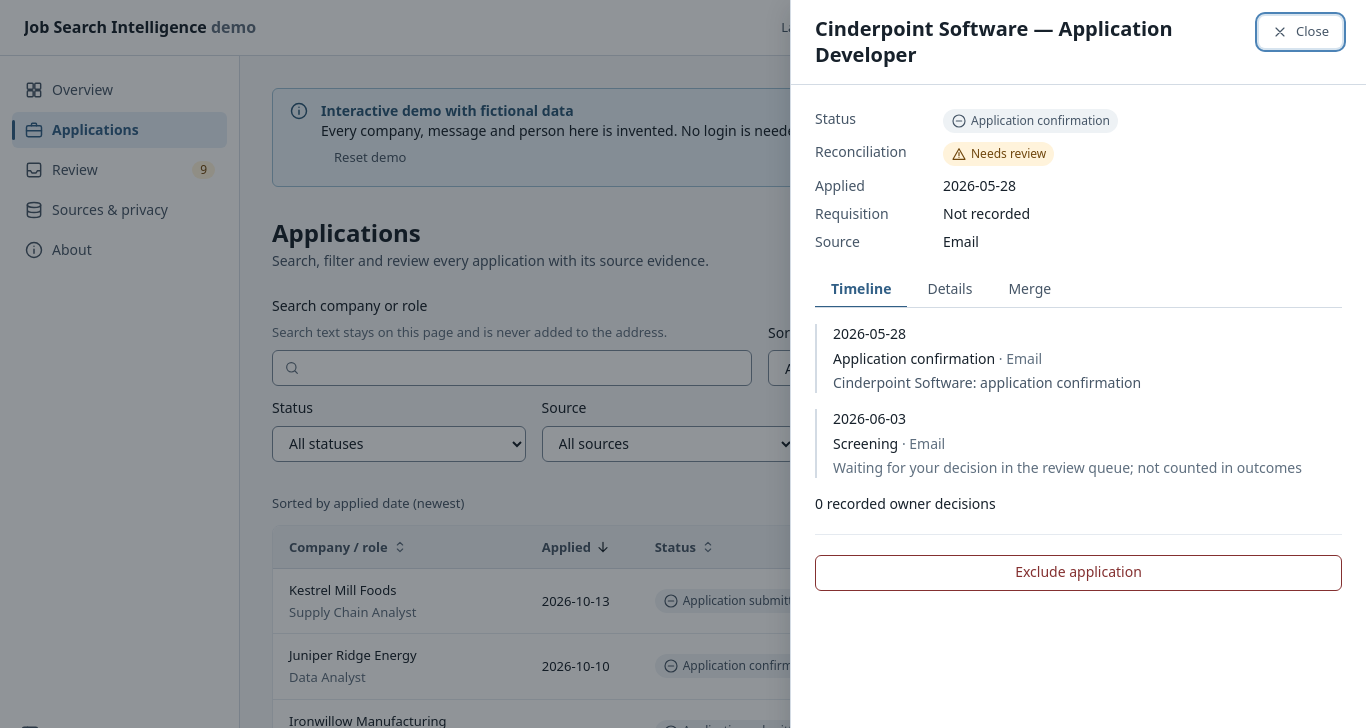
Test: applications › shows a stale merge target as an explicit error and changes nothing
Click the tab "Merge".
click(1030, 290)  # box left=992, top=272, right=1067, bottom=308
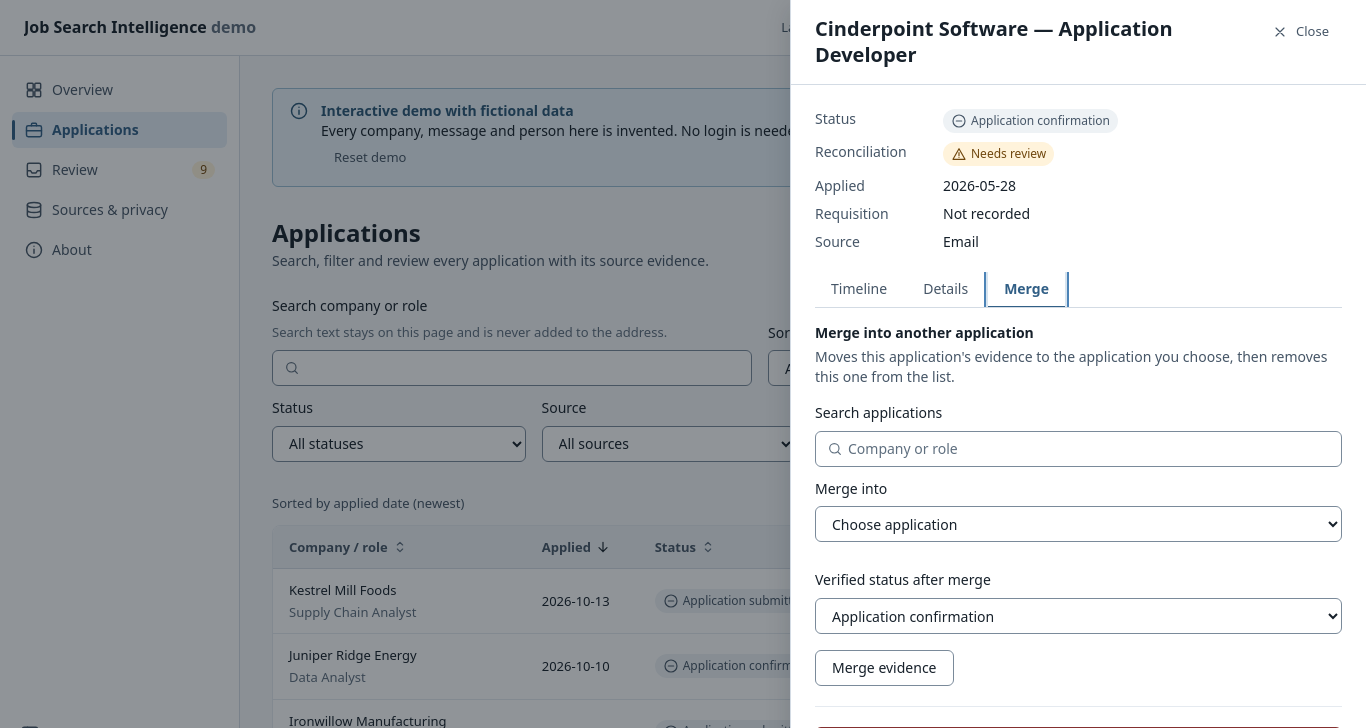
Submit the form named "Merge evidence", box left=815, top=324, right=1342, bottom=686
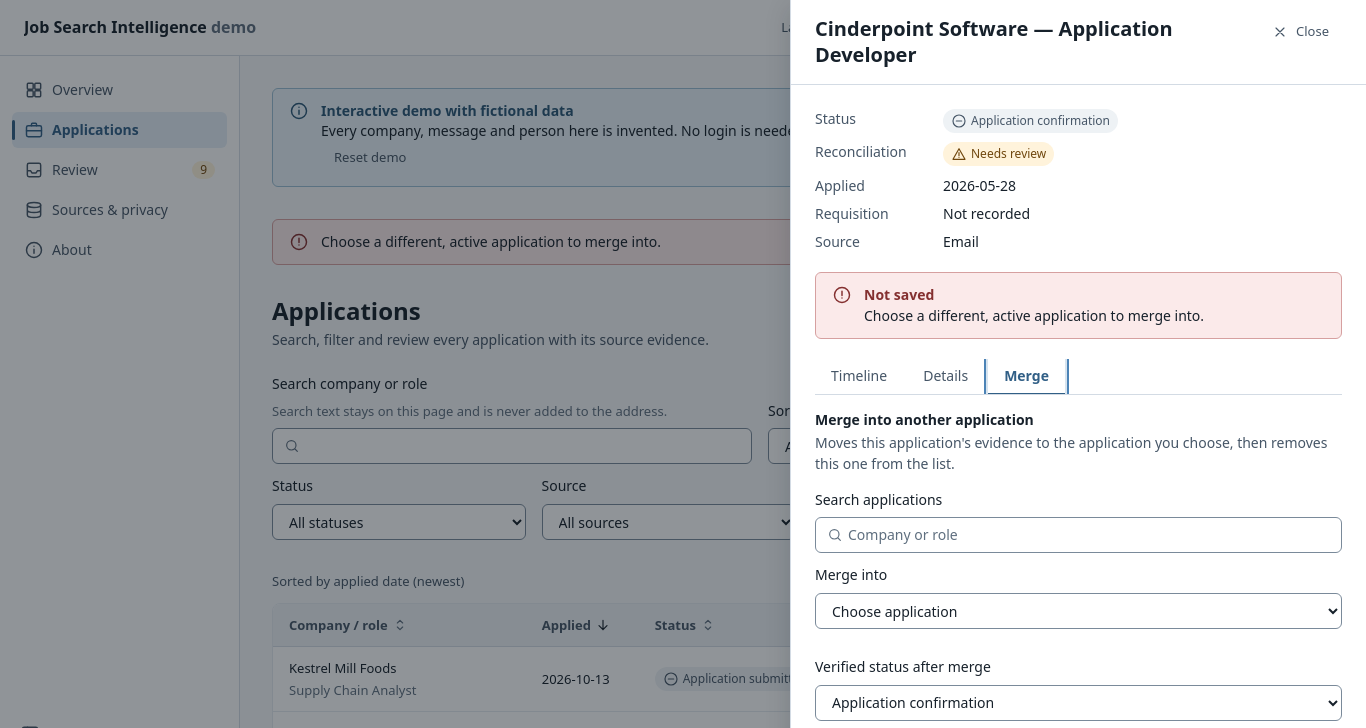
Expected: the heading "Merge into another application" is shown, left=815, top=410, right=1034, bottom=429
Expected: the text "Choose a different, active application" is shown, left=864, top=306, right=1204, bottom=325
